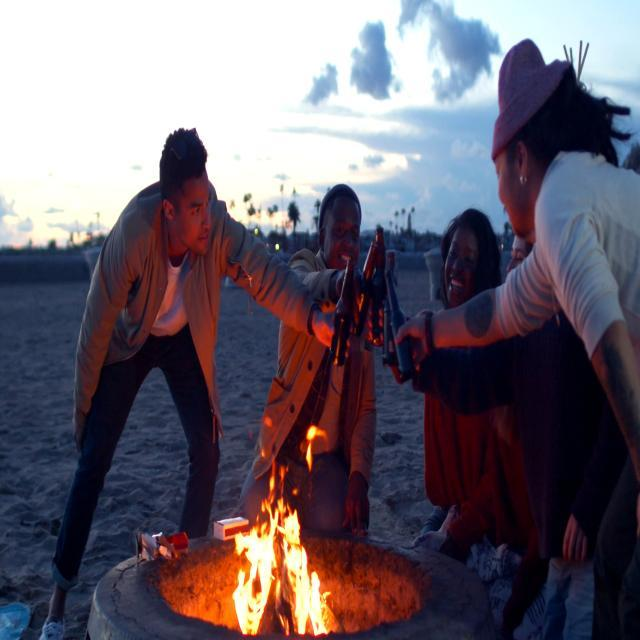Fire: (228, 476, 334, 635)
